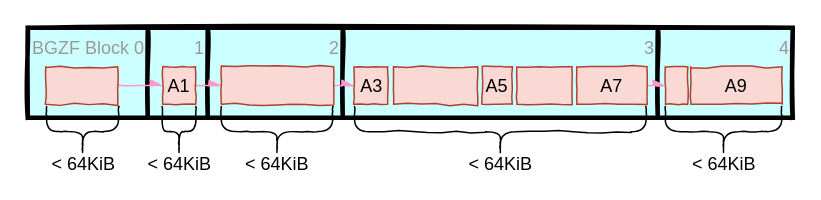
This 821x200 diagram has some shape labels left out. The centre of each missing label's shape, as x and y in pixels:
"A2" goes at (277,84).
"A4" goes at (435,84).
"A6" goes at (543,84).
"A8" goes at (676,84).
"BAM header" goes at (81,84).
